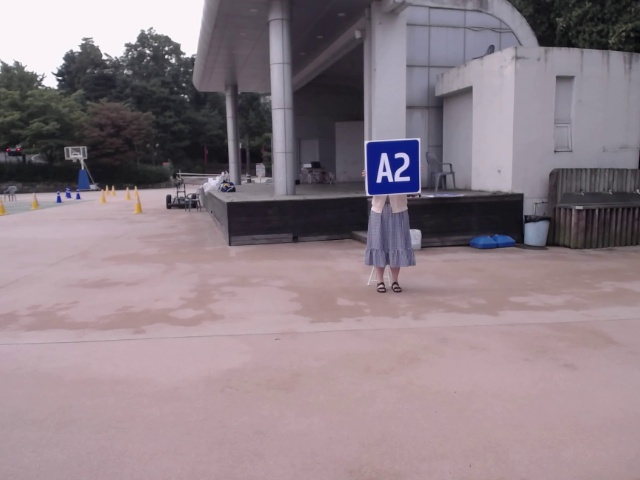delivery_a2: (366, 139, 421, 195)
